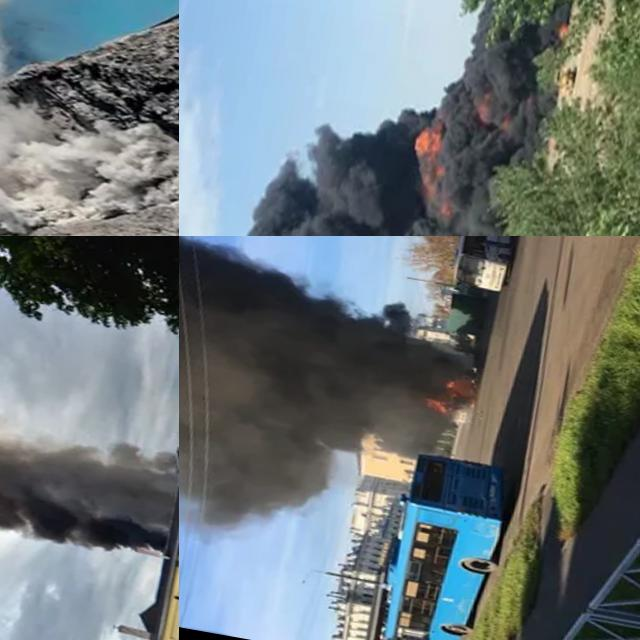smoke: (179, 236, 460, 571), (179, 0, 574, 236), (0, 346, 179, 605), (0, 0, 50, 236)
